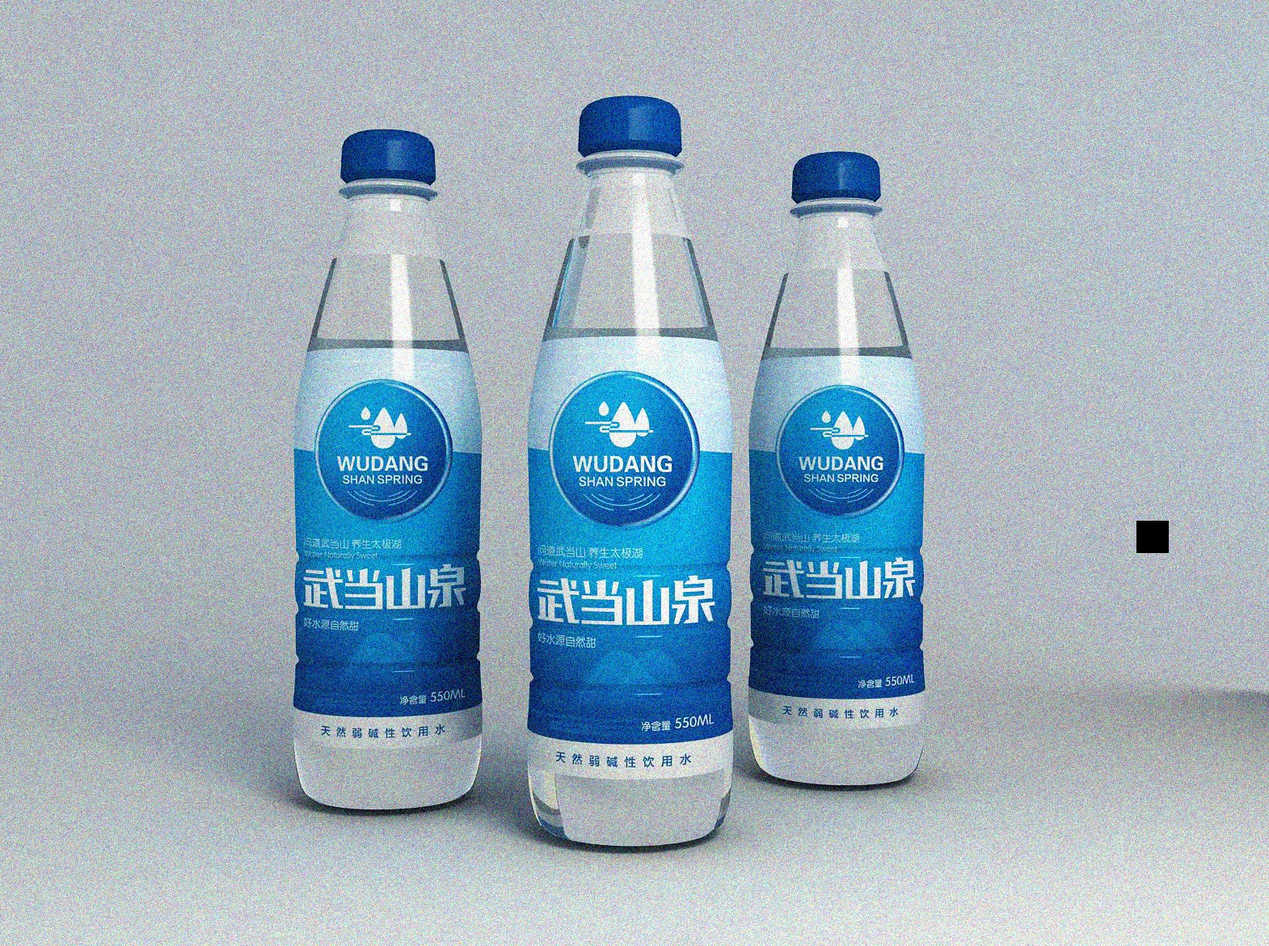bottle: (489, 79, 743, 882), (756, 110, 955, 807)
